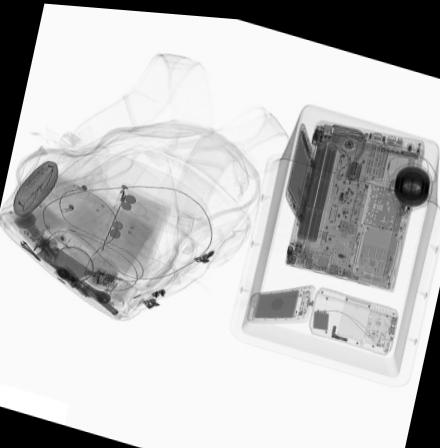Powerbank: (244, 277, 316, 318)
